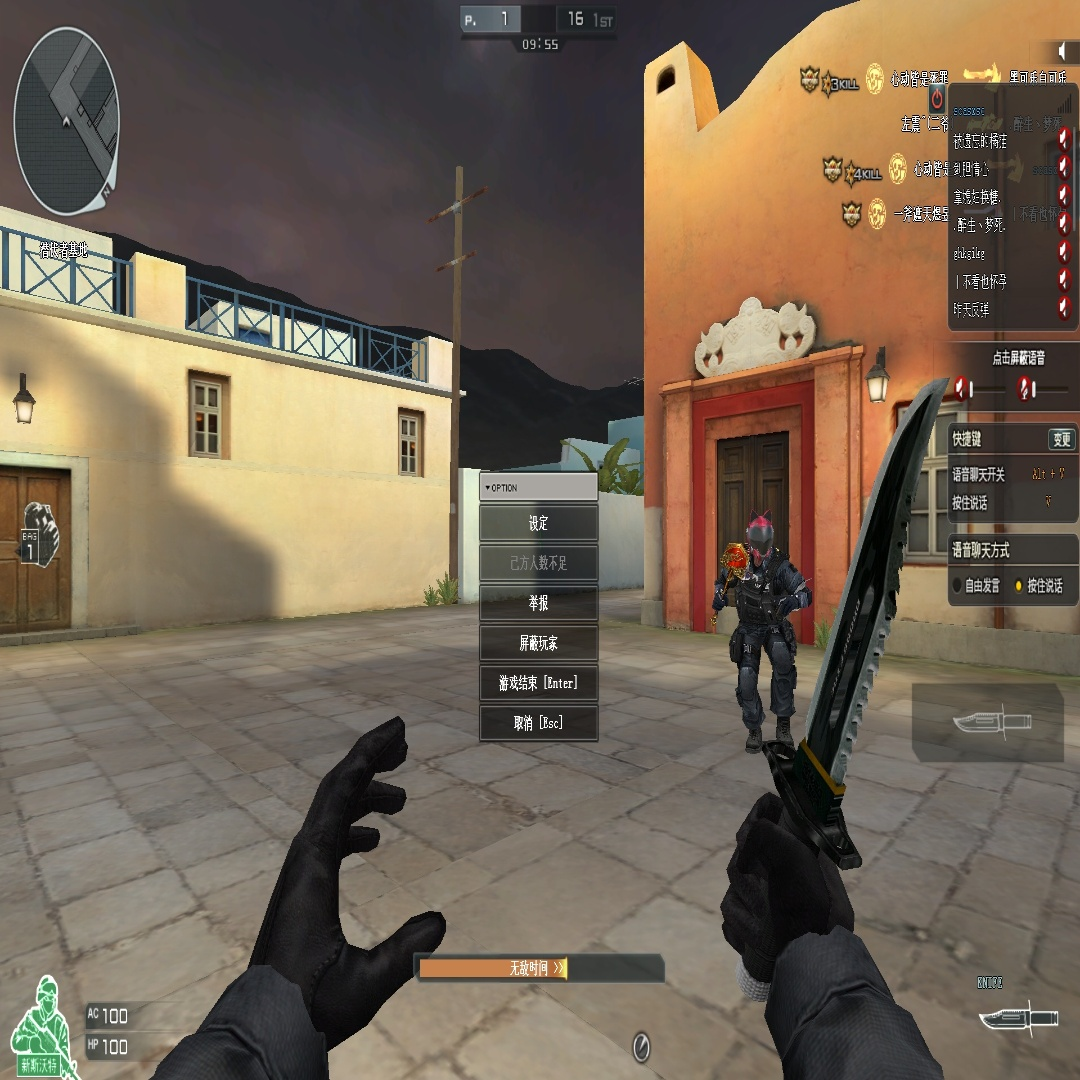head: (746, 512, 774, 561)
p: (710, 509, 812, 762)
